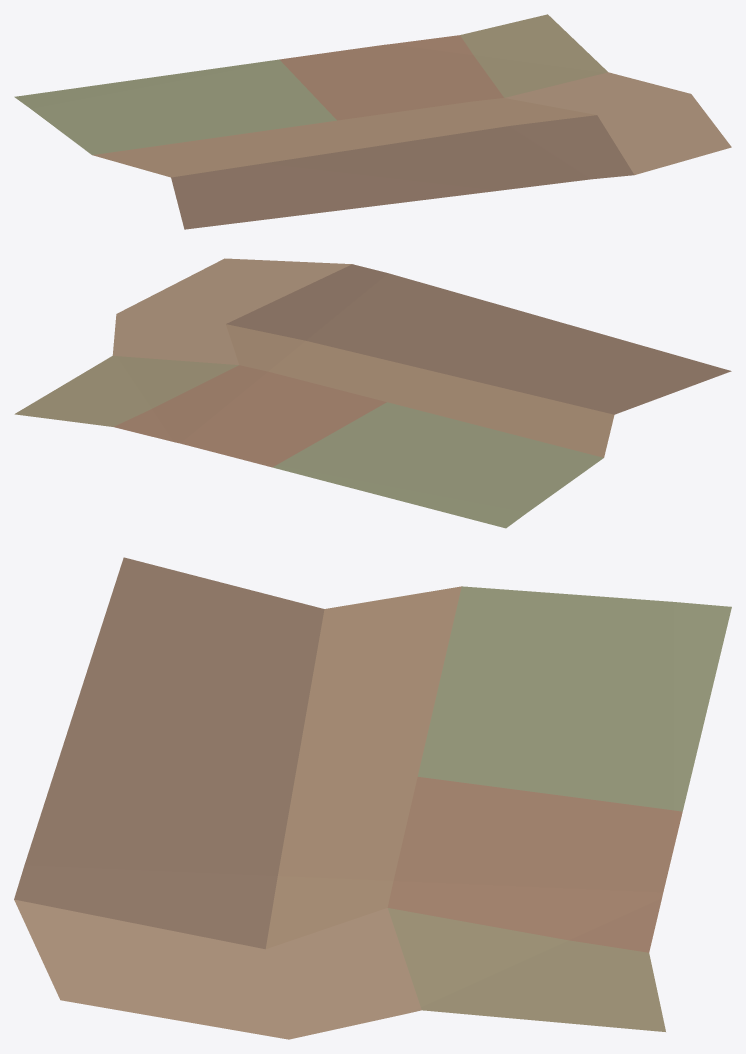
File: farm_27_40_soil.glb
3 renders of one model, top to bottom at view 1: azimuth 30°, elevation 25°; view 2: azimuth 150°, elevation 25°; view 3: azimuth 270°, elevation 25°, orthographic. The views are drawn at different scales.
Visible parts, largest first — view 1: geometry_0; view 2: geometry_0; view 3: geometry_0.
Boxes of the visible parts, x1,y1,x2,y2 form: geometry_0: [14, 14, 731, 229]; geometry_0: [14, 258, 731, 528]; geometry_0: [14, 557, 731, 1039].
Bounding box in the file's own units: 102 × 7.94 × 73.7.
